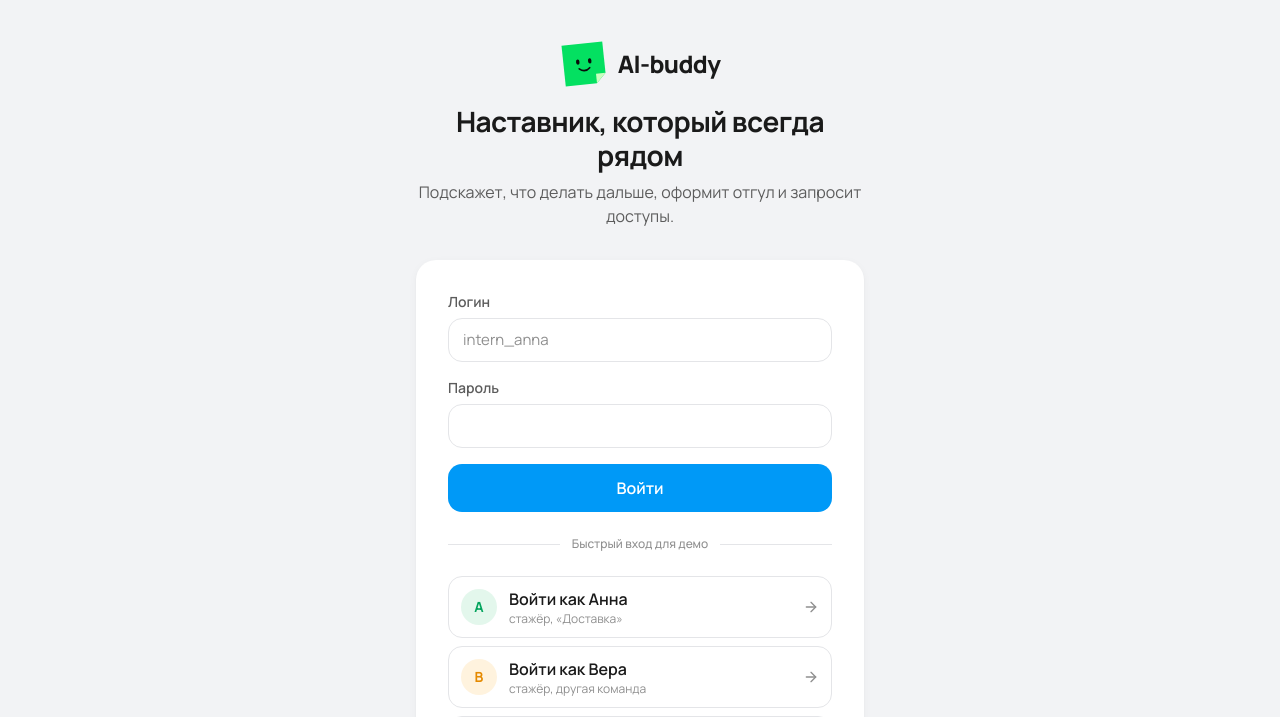
Test: LoginPage › быстрый вход как Анна → главная стажёра
The width and height of the screenshot is (1280, 717).
Click the button "А Войти как Анна стажёр, «Доставка»" at (479, 607), box [448,576,832,638]
(page scrolled)
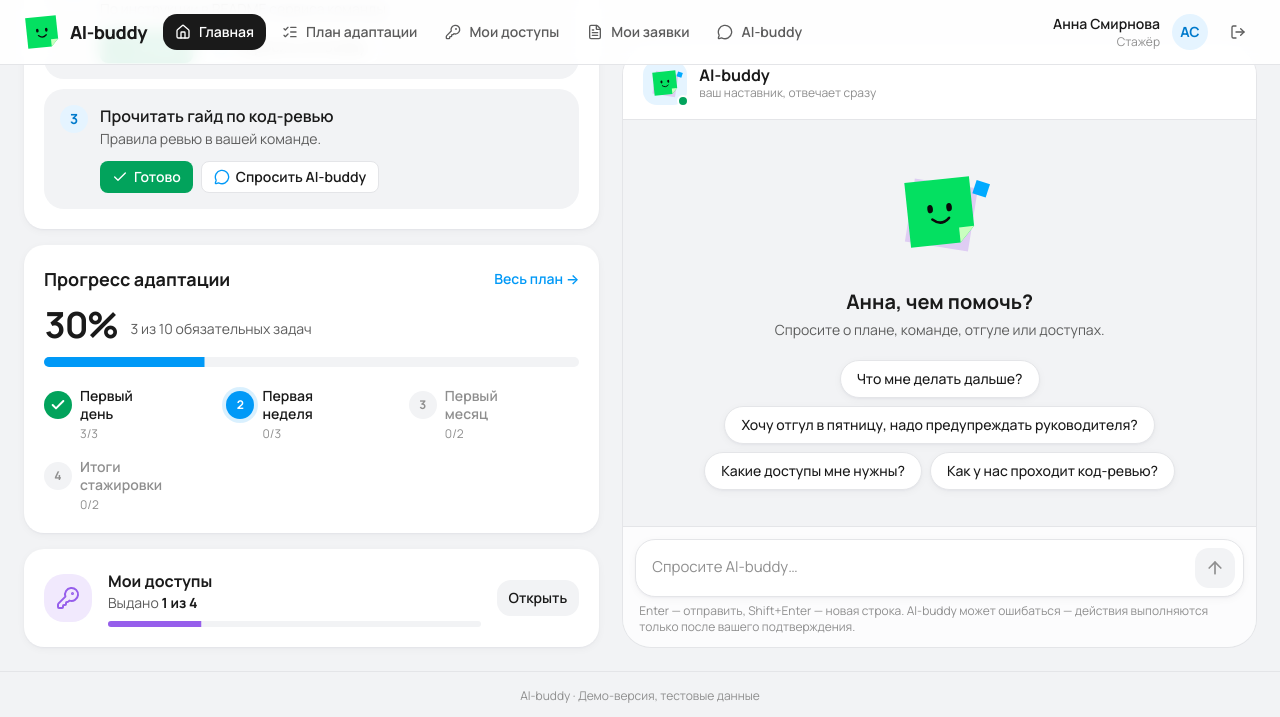
expect the text "1 из 4" is shown: met, box [162,593,198,612]
